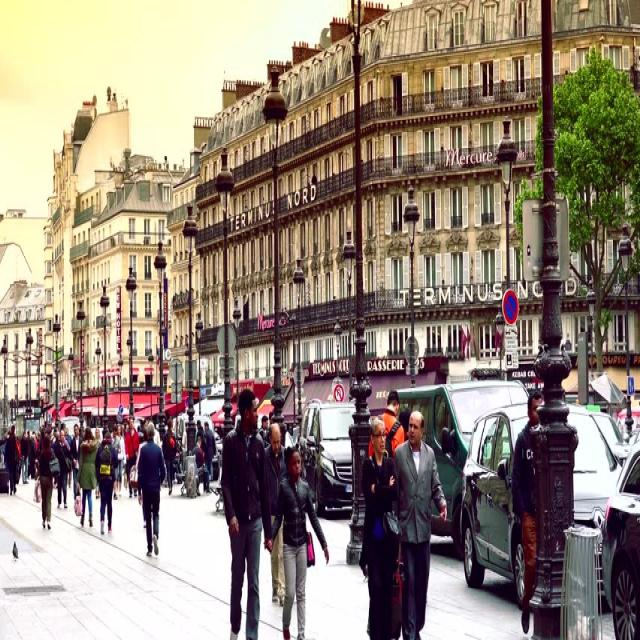body: (389, 405, 449, 639), (220, 385, 274, 640), (264, 442, 332, 638), (360, 416, 400, 640), (509, 389, 545, 636), (134, 417, 168, 559), (264, 422, 287, 610), (93, 429, 120, 536), (368, 387, 407, 461), (76, 426, 100, 530), (35, 433, 57, 532), (124, 414, 140, 498), (55, 428, 71, 511), (191, 433, 212, 495), (161, 416, 177, 497), (68, 422, 84, 502), (136, 417, 168, 456), (4, 424, 18, 497), (115, 422, 128, 498), (110, 422, 122, 502), (40, 421, 70, 452), (202, 420, 216, 475), (26, 424, 40, 479), (92, 425, 102, 500), (121, 418, 129, 491), (64, 426, 73, 490), (20, 430, 30, 486), (398, 407, 414, 441), (278, 423, 296, 452), (0, 429, 11, 471), (14, 434, 22, 486), (258, 413, 270, 447), (195, 418, 208, 446), (180, 420, 189, 453), (51, 474, 58, 489)
